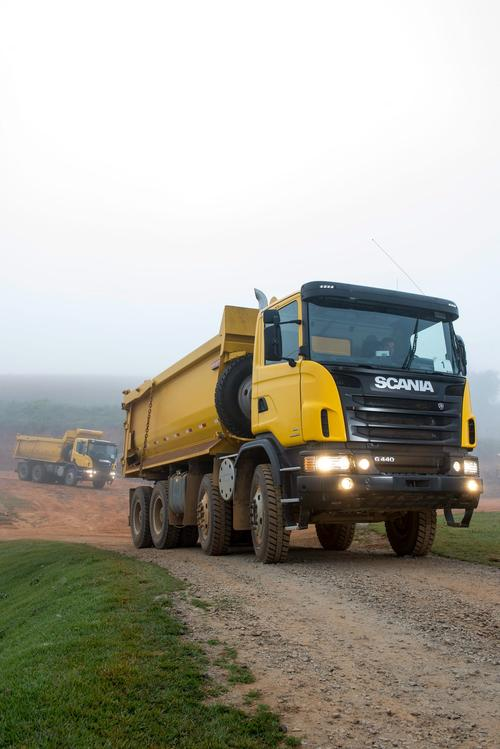卡车: (114, 270, 495, 572)
